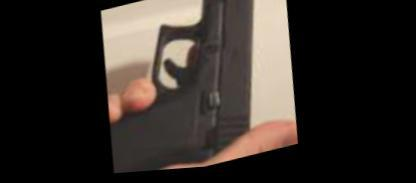pistol: (89, 0, 296, 175)
